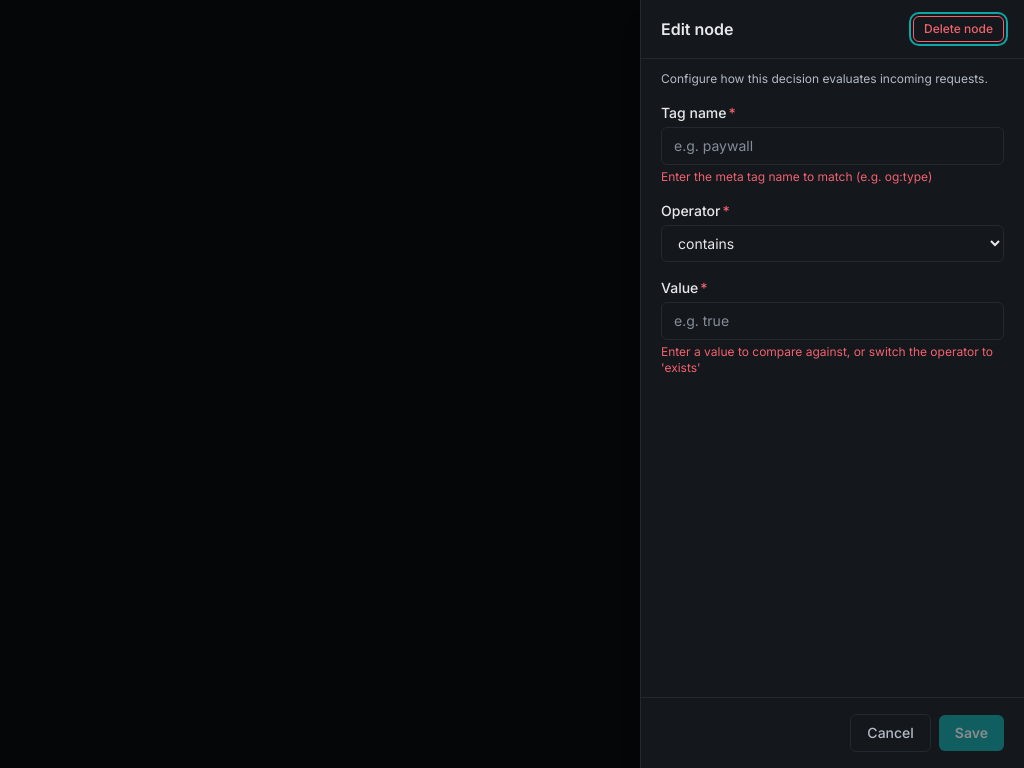
Test: NodeConfigDrawer required_unless › allows save with empty value once operator is 'exists' (required_unless)
In the field labelled "Tag name*": (832, 146) [661, 127, 1004, 165], type "paywall"
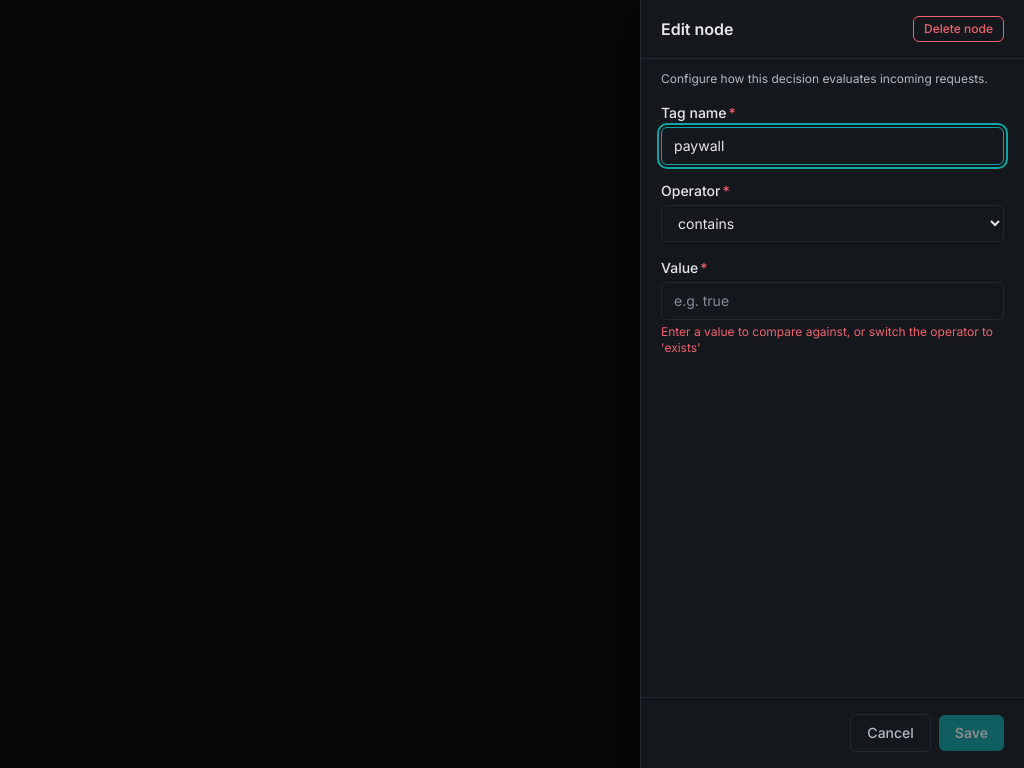
Expected: the button "Save" is disabled, [939, 715, 1004, 751]
Select "exists" in the dropdown labelled "Operator*": (832, 224) [661, 205, 1004, 242]
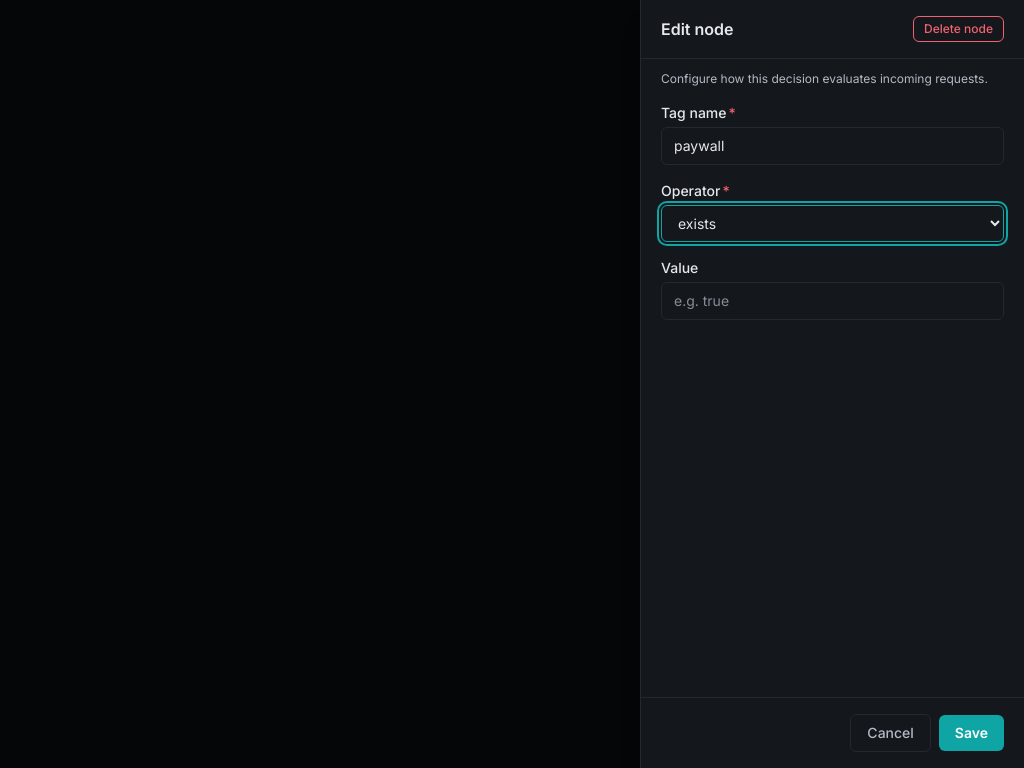
Expected: the button "Save" is enabled, [939, 715, 1004, 751]
